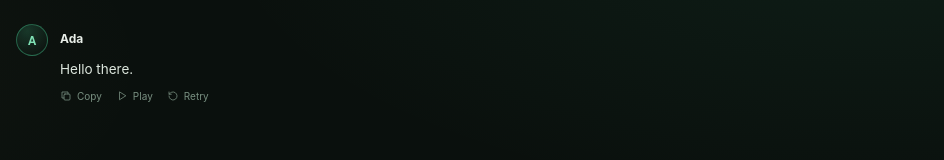
Test: interactive chat › reads a finished reply aloud with a Play button and stops it again
Click the button "Play". click: (134, 96)
box: [109,85,160,107]
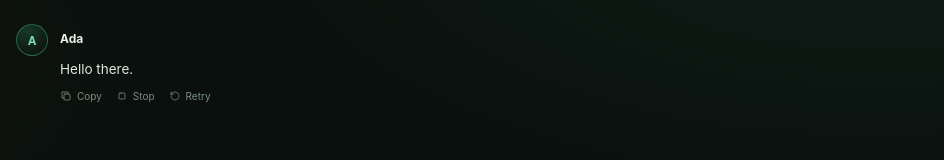
Expected: the button "Stop" is shown
Click the button "Stop". click: (135, 96)
box: [109,85,162,107]
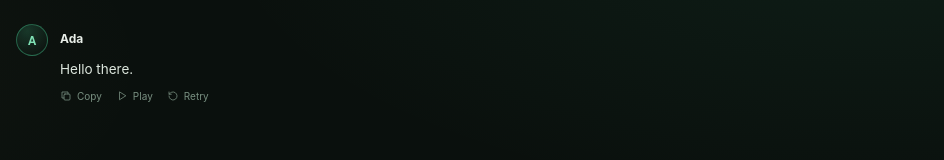
Expected: the button "Play" is shown, [109,85,160,107]
